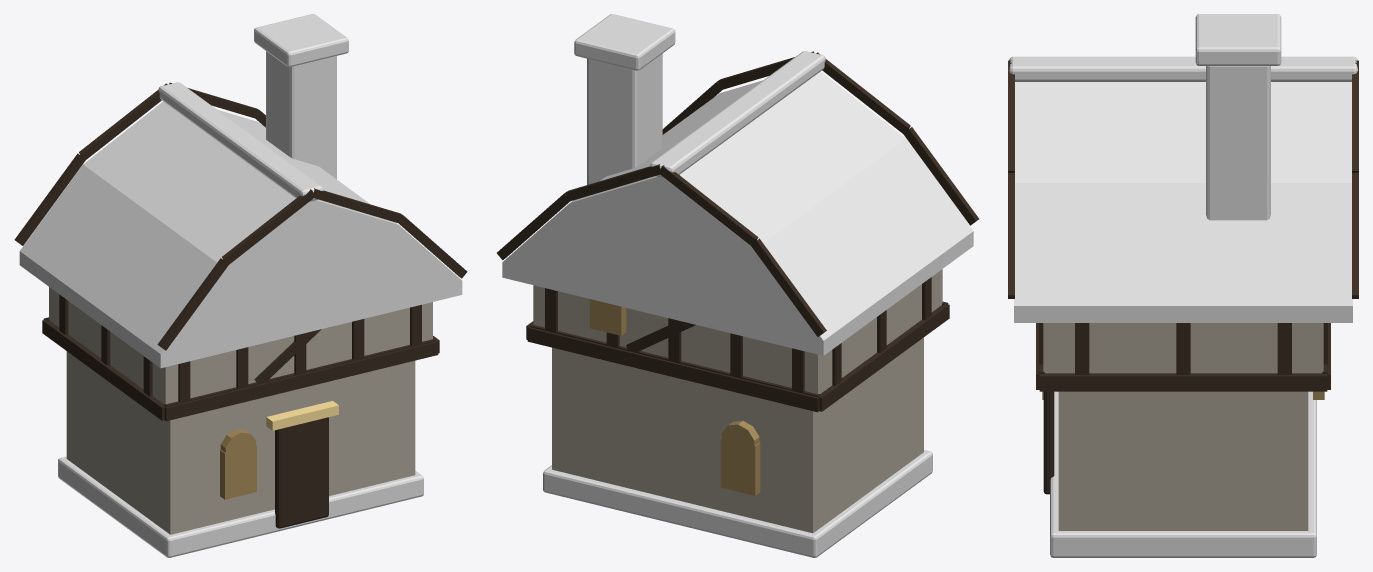
The model's file is ench_cottage.fbx.
The picture shows the model from 3 angles, left to right: view 1: azimuth 30°, elevation 25°; view 2: azimuth 150°, elevation 25°; view 3: azimuth 270°, elevation 25°; orthographic projection. The views are drawn at different scales.
Visible parts, largest first — view 1: thatch_1, plaster_1, timber_1, stonemoss_1, window_1, gold_1; view 2: thatch_1, plaster_1, stonemoss_1, timber_1, window_1; view 3: thatch_1, plaster_1, stonemoss_1, timber_1.
Part boxes in pixels (<box>): thatch_1: <box>19,82,462,368</box>; plaster_1: <box>49,287,432,534</box>; timber_1: <box>14,82,467,528</box>; stonemoss_1: <box>58,14,423,557</box>; window_1: <box>220,429,256,499</box>; gold_1: <box>266,401,338,430</box>; thatch_1: <box>502,51,973,355</box>; plaster_1: <box>533,269,942,533</box>; stonemoss_1: <box>543,14,932,557</box>; timber_1: <box>497,51,978,412</box>; window_1: <box>589,299,760,495</box>; thatch_1: <box>1009,56,1357,322</box>; plaster_1: <box>1043,323,1323,530</box>; stonemoss_1: <box>1050,14,1316,557</box>; timber_1: <box>1008,60,1358,494</box>.
Size of the model in its own units: 1.25 by 1.62 by 1.03.
